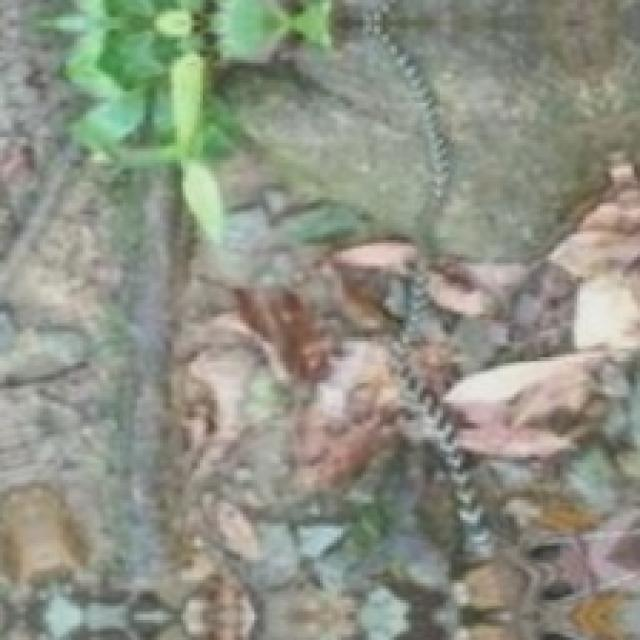king cobra: (365, 0, 452, 439), (440, 432, 496, 559)
